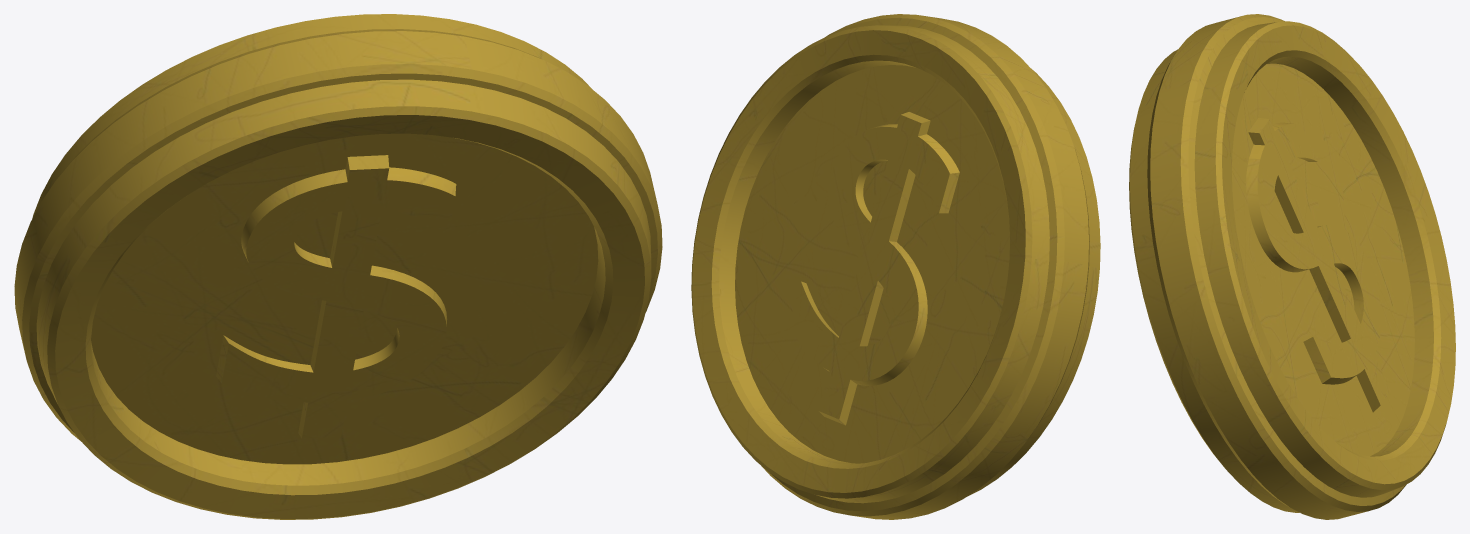
Rendered from Coin.fbx.
The picture shows the model from 3 angles, left to right: view 1: azimuth 30°, elevation 25°; view 2: azimuth 150°, elevation 25°; view 3: azimuth 270°, elevation 25°; orthographic projection. The views are drawn at different scales.
Parts seen in each view (by area): view 1: Coin; view 2: Coin; view 3: Coin.
Part boxes in pixels (x1,y1,x2,y2): Coin: [14, 14, 662, 519]; Coin: [691, 14, 1100, 519]; Coin: [1129, 14, 1455, 519].
Size of the model in its own units: 193 by 187 by 126.
